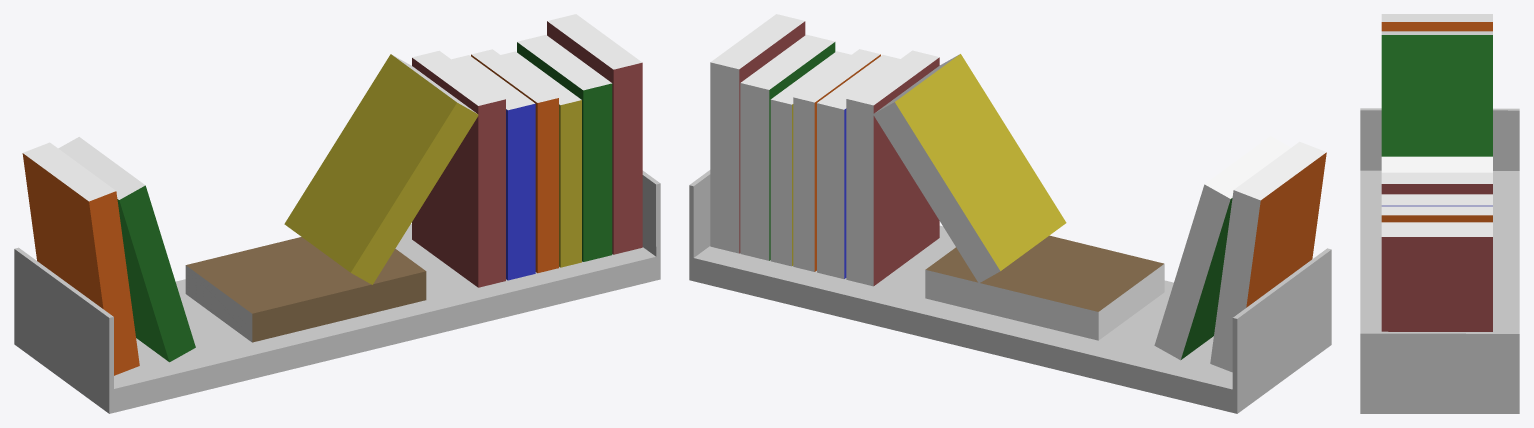
The model's file is books2.glb.
The picture shows the model from 3 angles, left to right: view 1: azimuth 30°, elevation 25°; view 2: azimuth 150°, elevation 25°; view 3: azimuth 270°, elevation 25°; orthographic projection. The views are drawn at different scales.
Visible parts, largest first — view 1: WallBookshelf02; view 2: WallBookshelf02; view 3: WallBookshelf02.
Boxes of the visible parts, x1,y1,x2,y2 form: WallBookshelf02: (14, 14, 660, 413); WallBookshelf02: (689, 14, 1331, 413); WallBookshelf02: (1360, 14, 1519, 413).
Bounding box in the file's own units: 5.43 × 1.99 × 1.6.
1 material, 1 textured.
